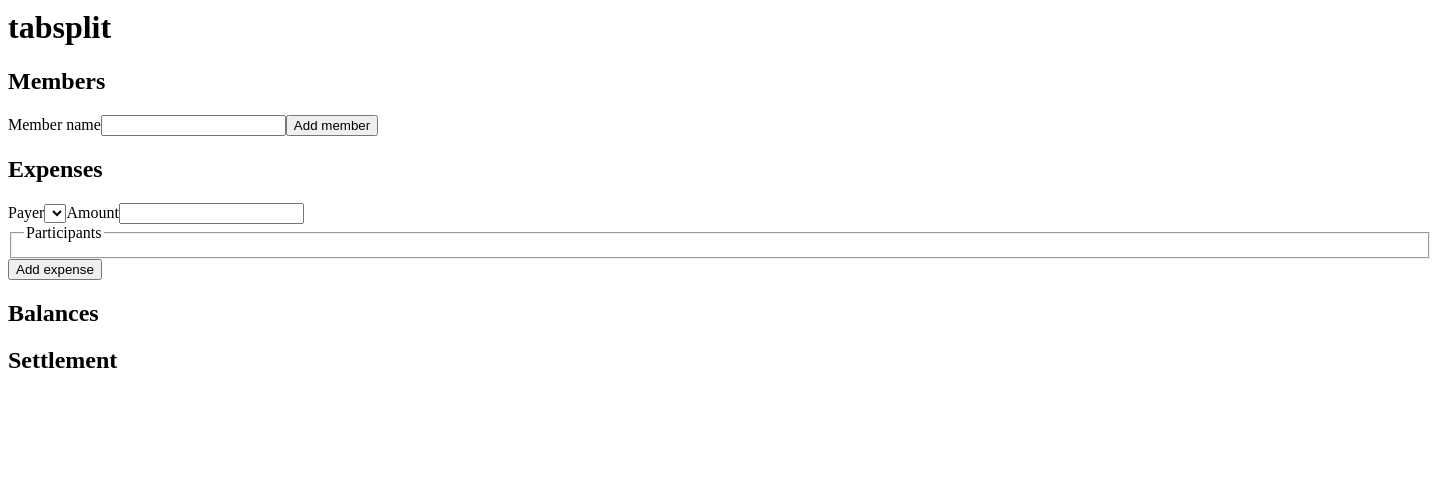
Test: App › adds a member, trimming the name
Type "  Ann " into the field labelled "Member name" at (193, 125), box [101, 115, 286, 136]
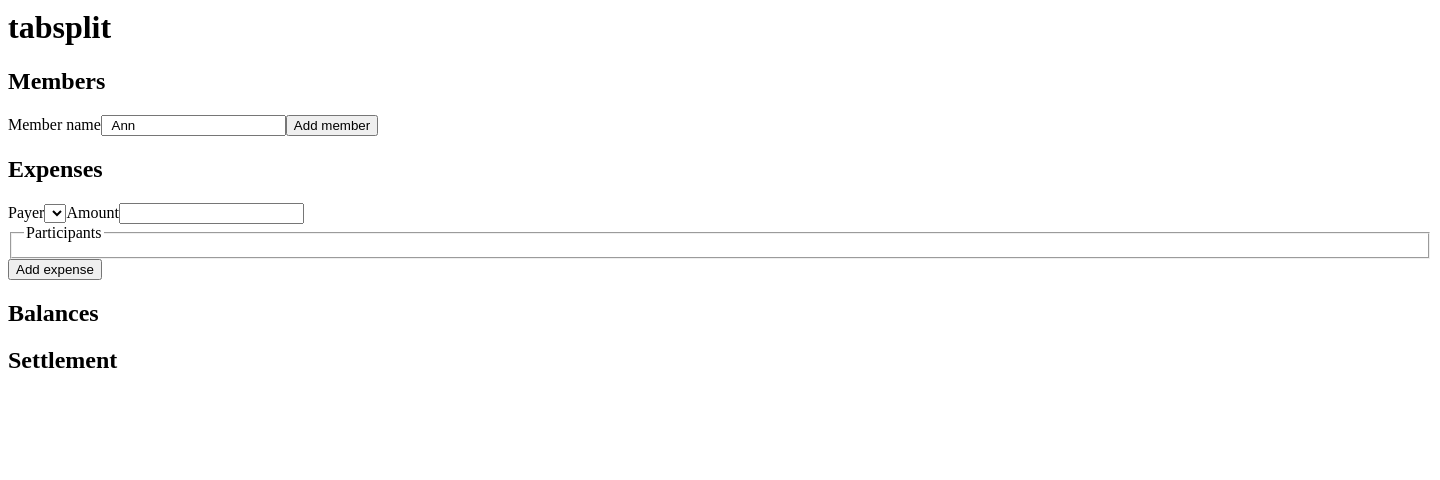
Click the button "Add member" at (332, 125), box [286, 115, 378, 136]
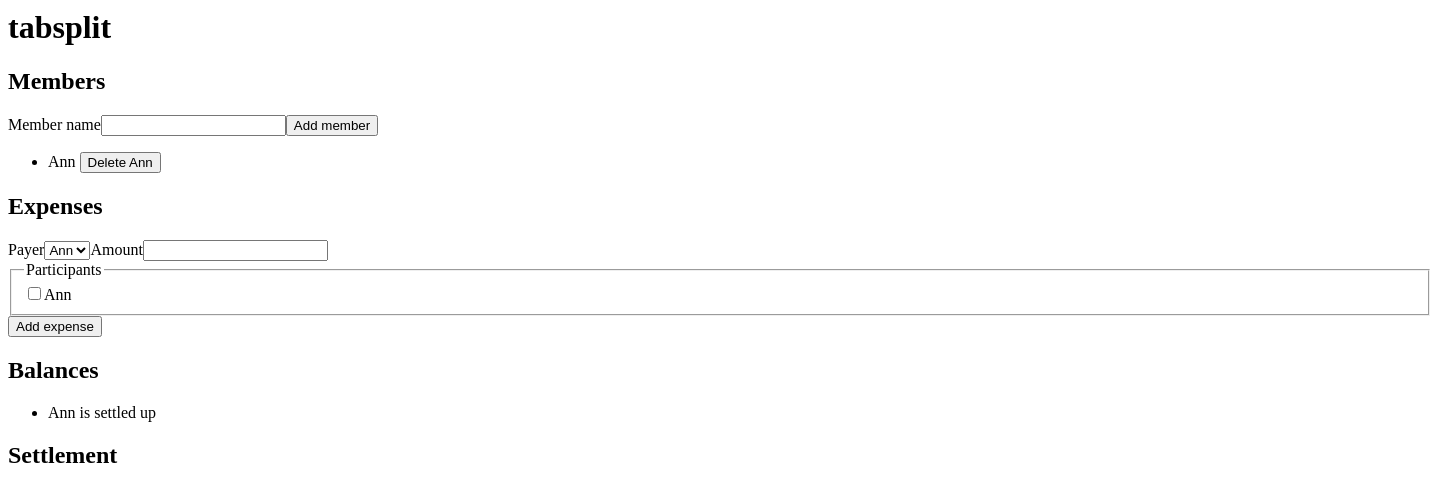
Result: the button "Delete Ann" is shown at [80, 152, 161, 173]
